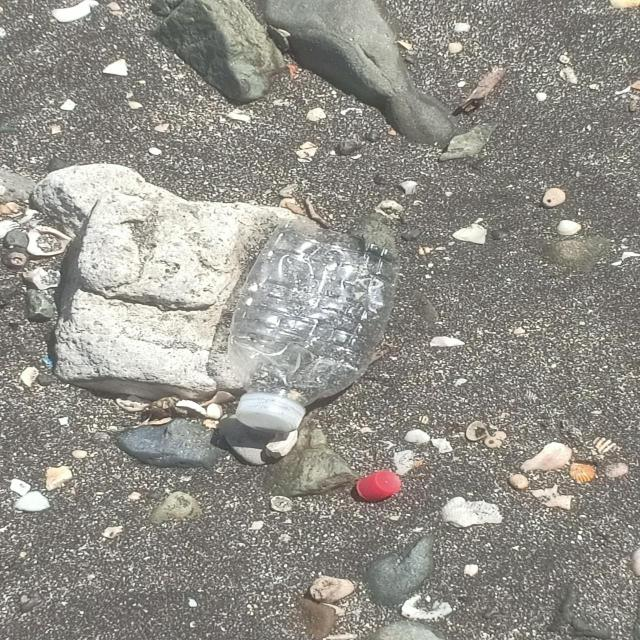litter: (227, 218, 397, 432), (356, 469, 402, 503)
